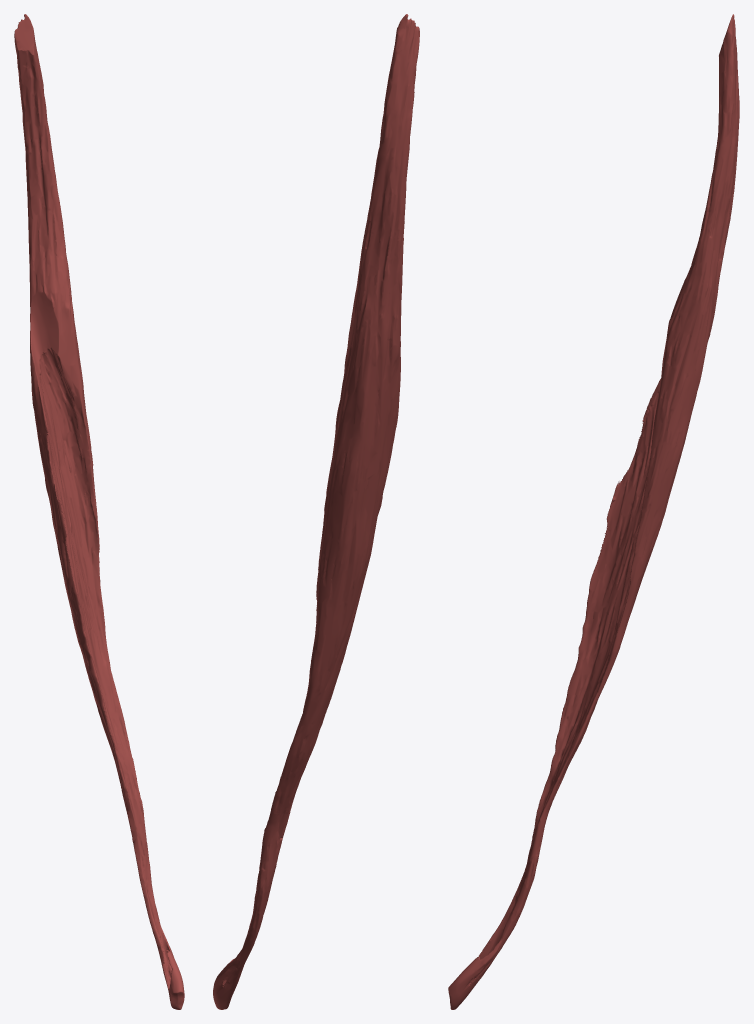
3 renders of one model, left to right at view 1: azimuth 30°, elevation 25°; view 2: azimuth 210°, elevation 25°; view 3: azimuth 270°, elevation 25°, orthographic. The views are drawn at different scales.
Parts seen in each view (by area): view 1: BP44; view 2: BP44; view 3: BP44.
Part boxes in pixels (left/top/right/bottom): BP44: left=14, top=14, right=184, bottom=1009; BP44: left=213, top=14, right=419, bottom=1009; BP44: left=448, top=14, right=739, bottom=1009.
Size of the model in its own units: 0.0181 by 0.2877 by 0.0773.
